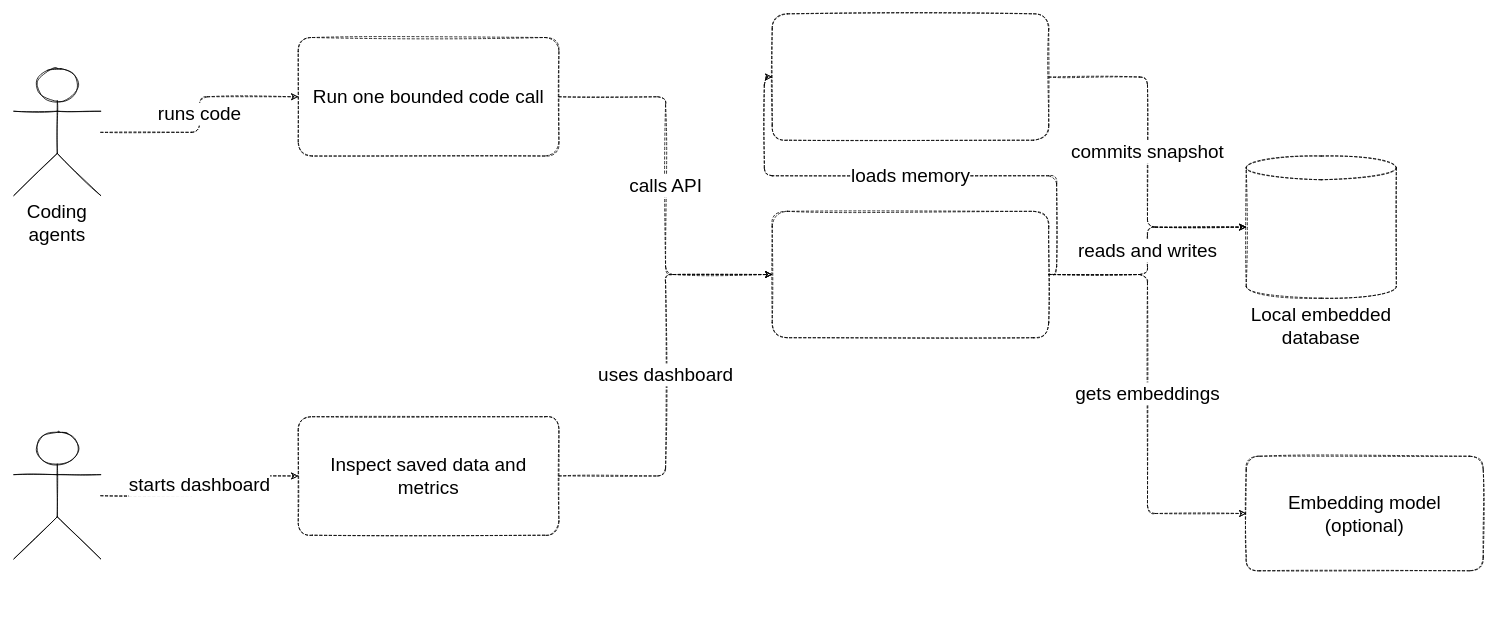
This 1497x624 diagram has some shape labels left out. The centre of each missing label's shape, as x and y in pixels:
Load and refresh session memory: (910,76)
Local user: (57,495)
Validate, search, and store: (910,274)
